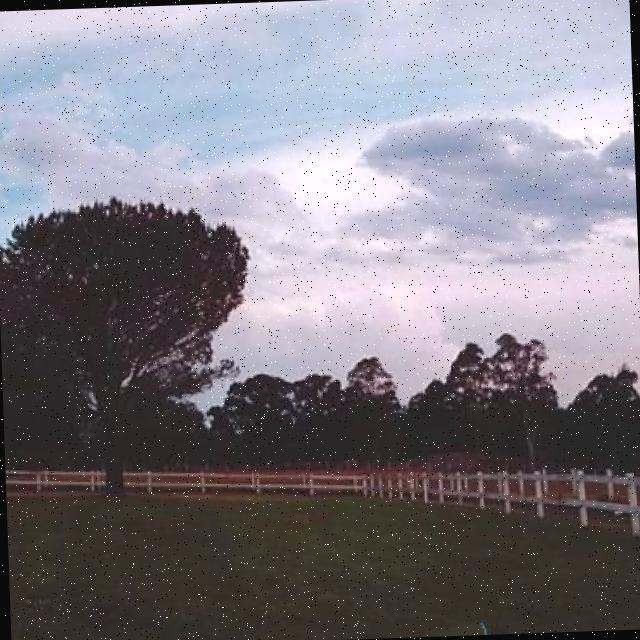Cs: (266, 20, 639, 277)
